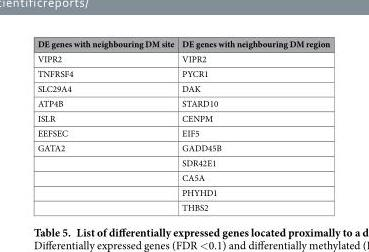table: (36, 37, 329, 213)
table column: (177, 37, 329, 213), (36, 37, 177, 213)
table column header: (36, 37, 329, 50)
table row: (36, 50, 329, 65), (36, 65, 329, 80), (36, 80, 329, 95), (36, 95, 329, 110), (36, 110, 329, 125), (36, 125, 329, 140), (36, 154, 329, 169), (36, 169, 329, 184), (36, 184, 329, 199), (36, 140, 329, 154), (36, 199, 329, 213), (36, 37, 329, 50)
table spanning cell: (36, 140, 177, 213)
